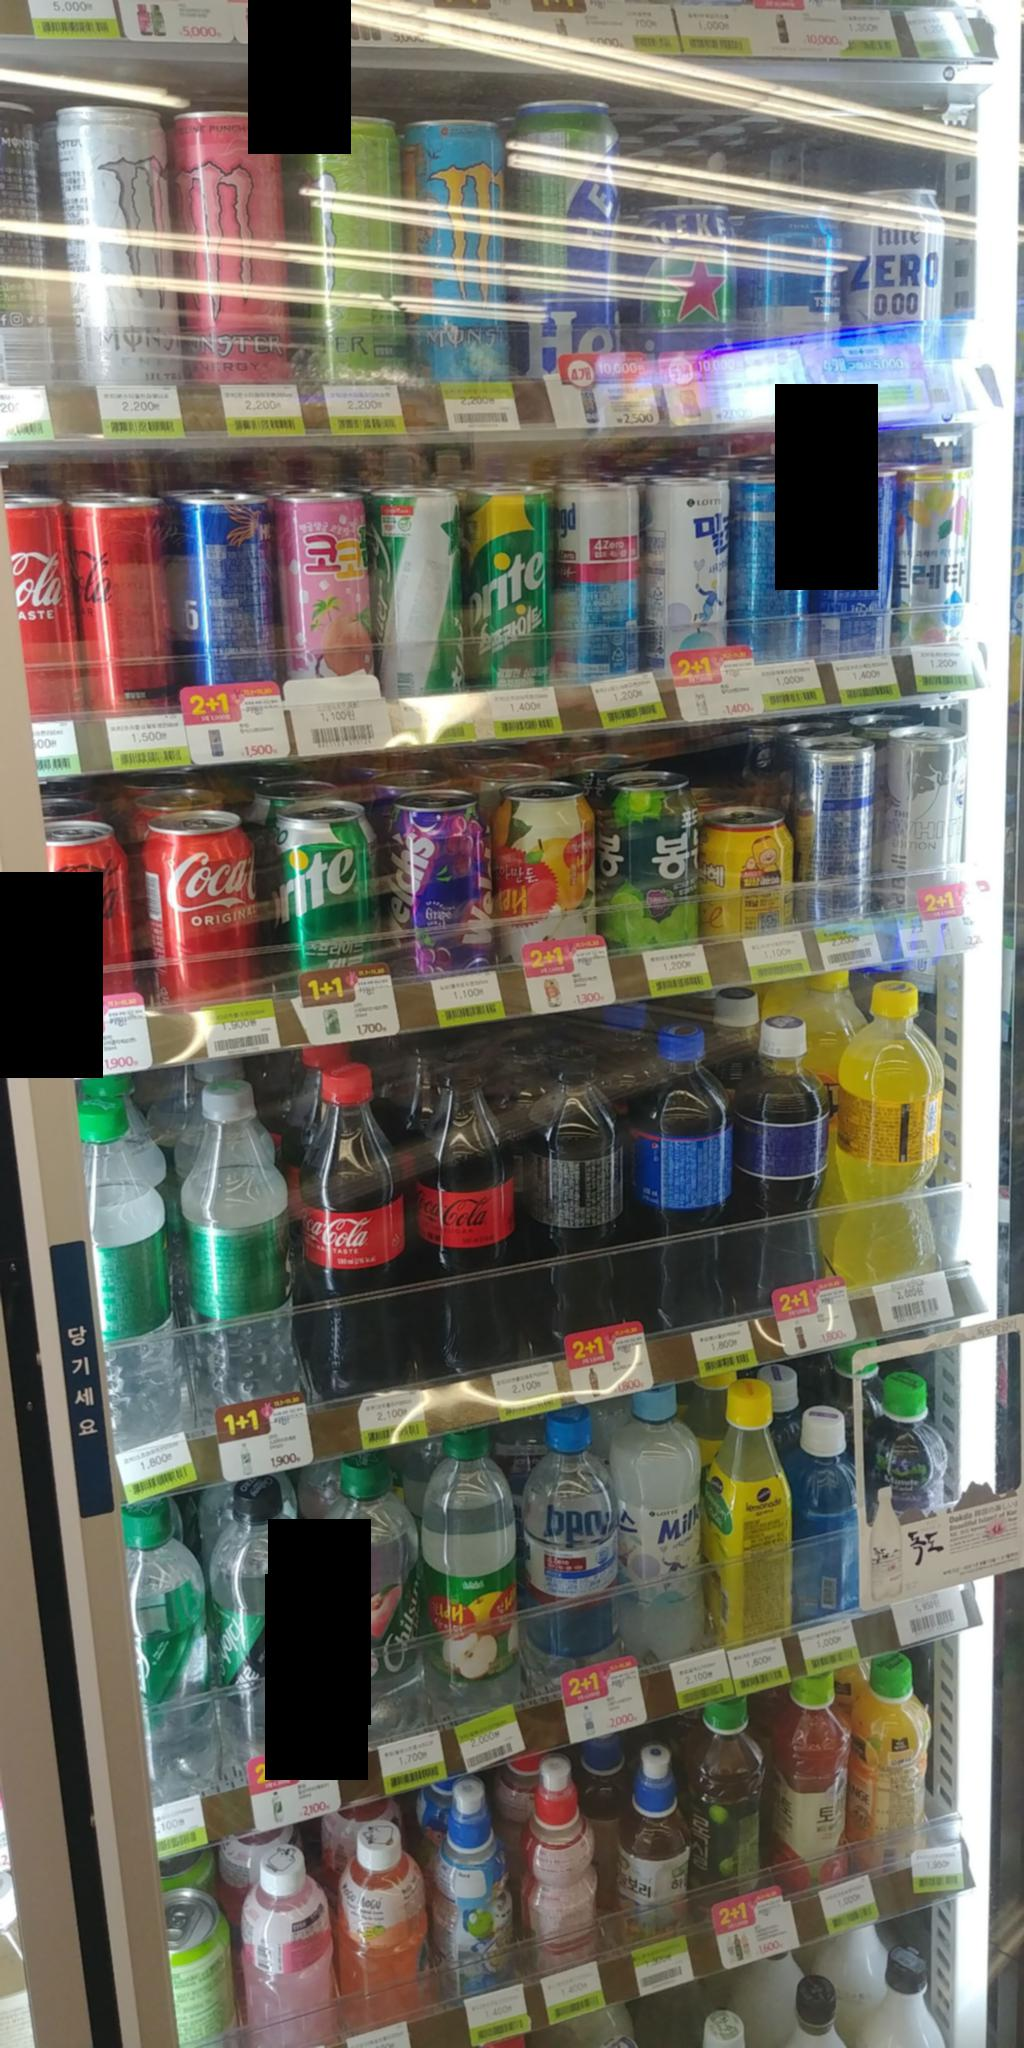cocacola: (137, 802, 276, 1002)
cocacola_zero: (61, 487, 182, 721)
hotsix_org: (172, 485, 273, 699)
narangdcider: (555, 478, 649, 687)
sprite_zero: (163, 1068, 311, 1408)
welchs_grape: (377, 775, 498, 989)
